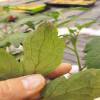Tomato mold leaf: (18, 19, 68, 81)
